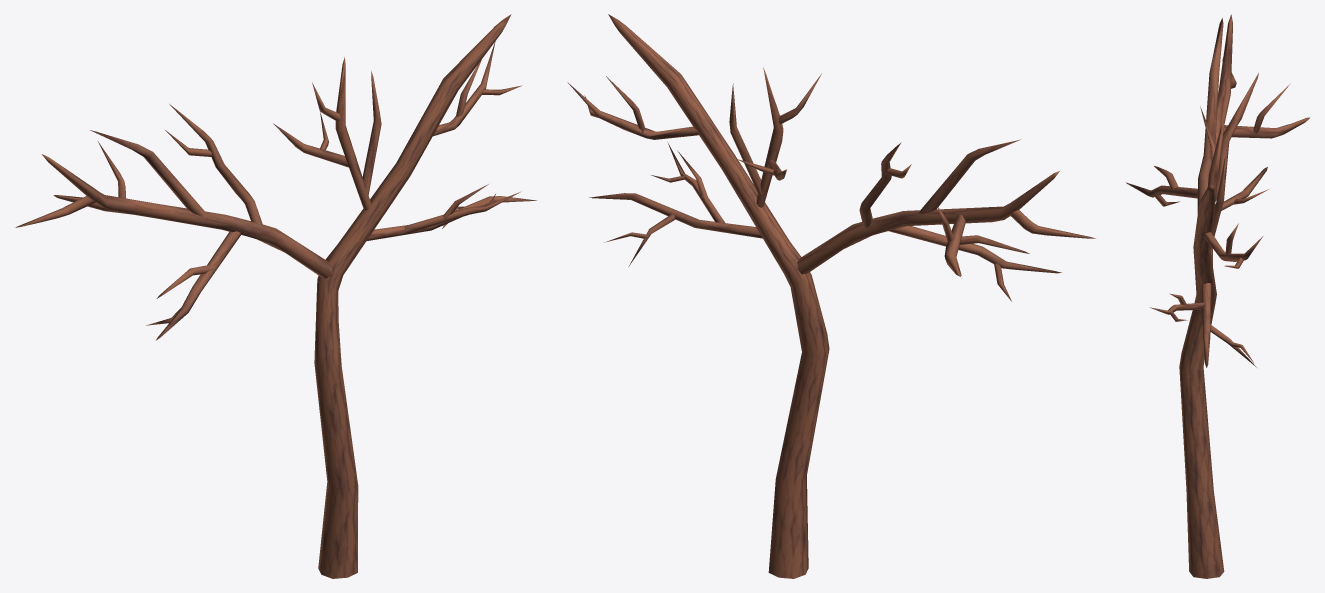
The model's file is dead-trees-2.glb.
3 views of the same model, side by side, from view 1: azimuth 30°, elevation 25°; view 2: azimuth 150°, elevation 25°; view 3: azimuth 270°, elevation 25° (orthographic). The views are drawn at different scales.
Visible parts, largest first — view 1: DeadTree_4; view 2: DeadTree_4; view 3: DeadTree_4.
Boxes of the visible parts, x1=… form: DeadTree_4: x1=15, y1=14, x2=536, y2=578; DeadTree_4: x1=567, y1=14, x2=1095, y2=578; DeadTree_4: x1=1126, y1=14, x2=1309, y2=578.
Bounding box in the file's own units: 4.85 × 4.61 × 1.67.
Materials: 1 (1 with a texture image).
